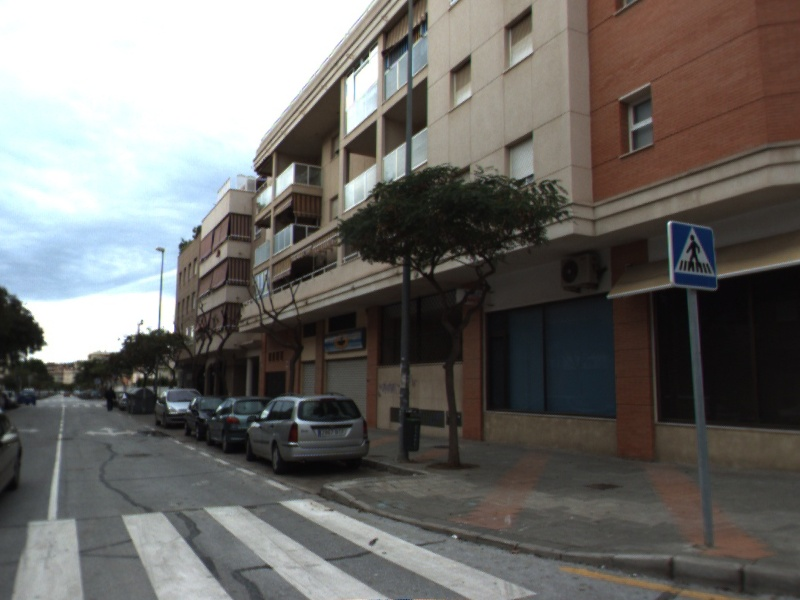STRAIGHT_LEFT_RIGHT: (82, 424, 139, 438)
